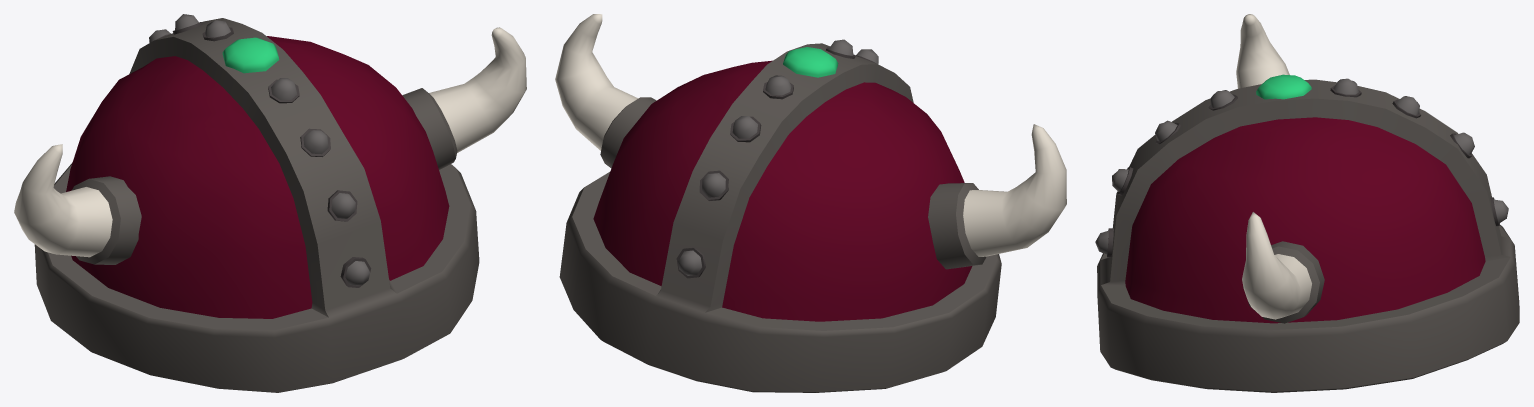
Rendered from Hat_20_03.fbx.
3 views of the same model, side by side, from view 1: azimuth 30°, elevation 25°; view 2: azimuth 150°, elevation 25°; view 3: azimuth 270°, elevation 25° (orthographic). The views are drawn at different scales.
Parts seen in each view (by area): view 1: Hat_20_03; view 2: Hat_20_03; view 3: Hat_20_03.
Part boxes in pixels (box(x1,y1,x2,y2)): Hat_20_03: box(14, 14, 526, 392); Hat_20_03: box(555, 14, 1066, 392); Hat_20_03: box(1095, 14, 1519, 392).
Bounding box in the file's own units: 45.58 × 23.13 × 34.59.
